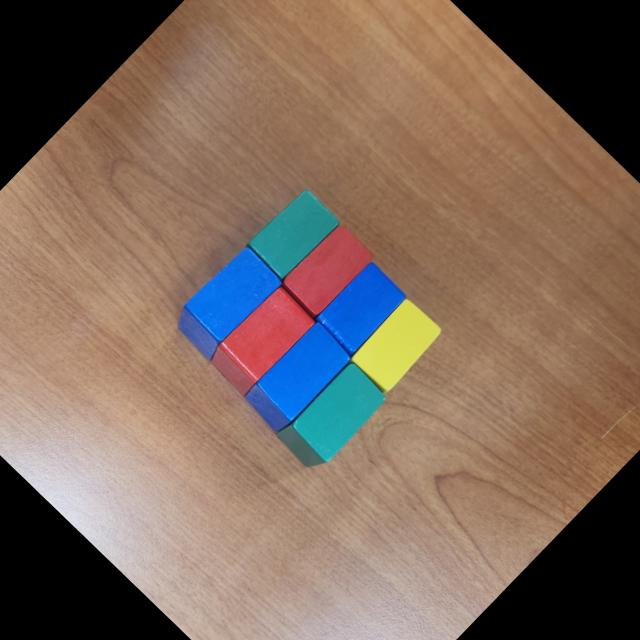blue: (166, 241, 286, 363), (236, 318, 356, 439), (311, 260, 410, 359)
green: (273, 358, 392, 478), (245, 185, 342, 284)
red: (203, 282, 317, 398), (279, 222, 376, 320)
yellow: (348, 296, 446, 396)
